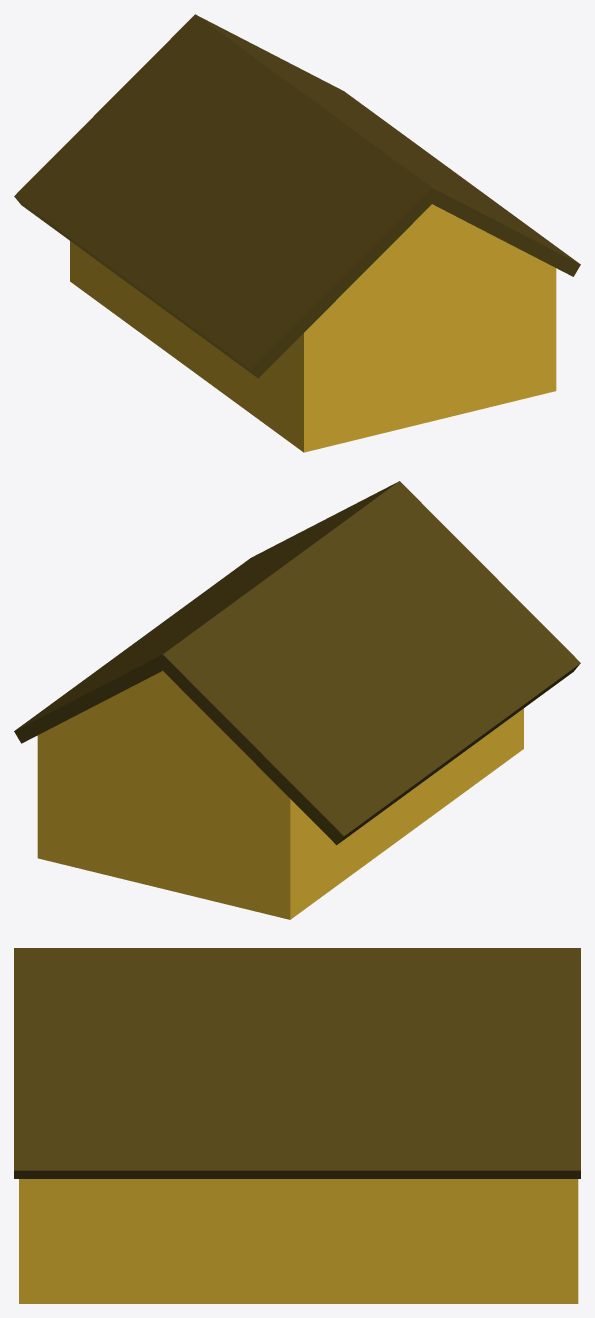
Rendered from result.dae.
3 renders of one model, top to bottom at view 1: azimuth 30°, elevation 25°; view 2: azimuth 150°, elevation 25°; view 3: azimuth 270°, elevation 25°, orthographic. The views are drawn at different scales.
Visible parts, largest first — view 1: 7f4cb965-b486-4762-9941-15480d917989__undefined (×5), c23138f0-f5fe-4b3a-8a4e-a1738ac83203__undefined (×2); view 2: 7f4cb965-b486-4762-9941-15480d917989__undefined (×5), c23138f0-f5fe-4b3a-8a4e-a1738ac83203__undefined (×2); view 3: 7f4cb965-b486-4762-9941-15480d917989__undefined (×2), c23138f0-f5fe-4b3a-8a4e-a1738ac83203__undefined.
Boxes of the visible parts, x1,y1,x2,y2 form: 7f4cb965-b486-4762-9941-15480d917989__undefined (×5): (14,14,580,378); c23138f0-f5fe-4b3a-8a4e-a1738ac83203__undefined (×2): (70,204,556,452); 7f4cb965-b486-4762-9941-15480d917989__undefined (×5): (14,481,580,844); c23138f0-f5fe-4b3a-8a4e-a1738ac83203__undefined (×2): (37,671,523,919); 7f4cb965-b486-4762-9941-15480d917989__undefined (×2): (14,948,580,1178); c23138f0-f5fe-4b3a-8a4e-a1738ac83203__undefined: (19,1179,578,1303).
Bounding box in the file's own units: 652 × 445 × 811.
